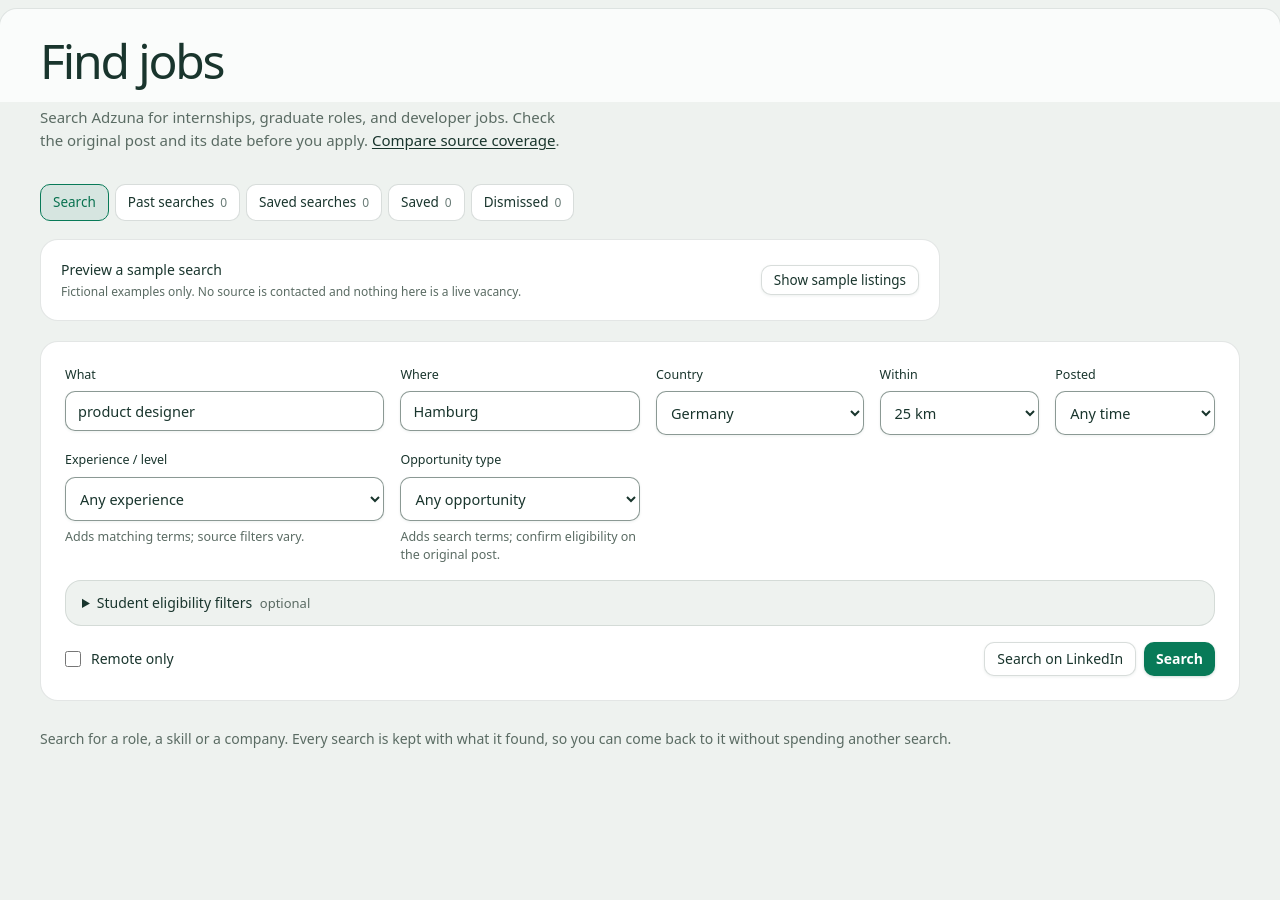
Test: the search form › warns that Adzuna can only add 'remote' to the words
Click the checkbox labelled "Remote only" at coordinates (73, 659), box [65, 651, 81, 667]
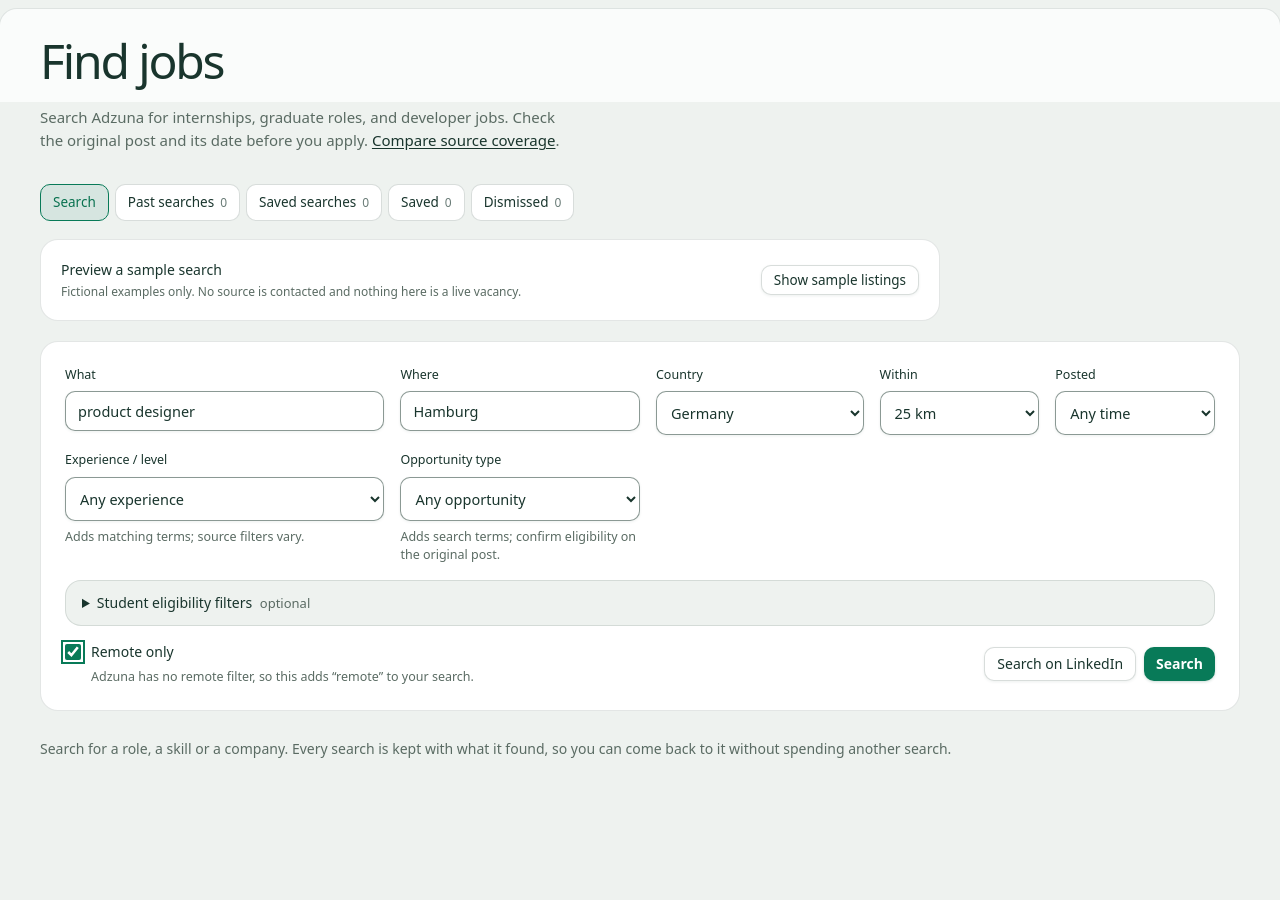
Now the text "Adzuna has no remote filter, so this adds “remote” to your search." is shown, box [65, 668, 474, 686]
